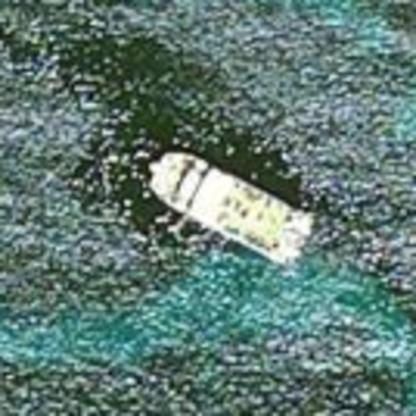ship: (137, 148, 321, 269)
